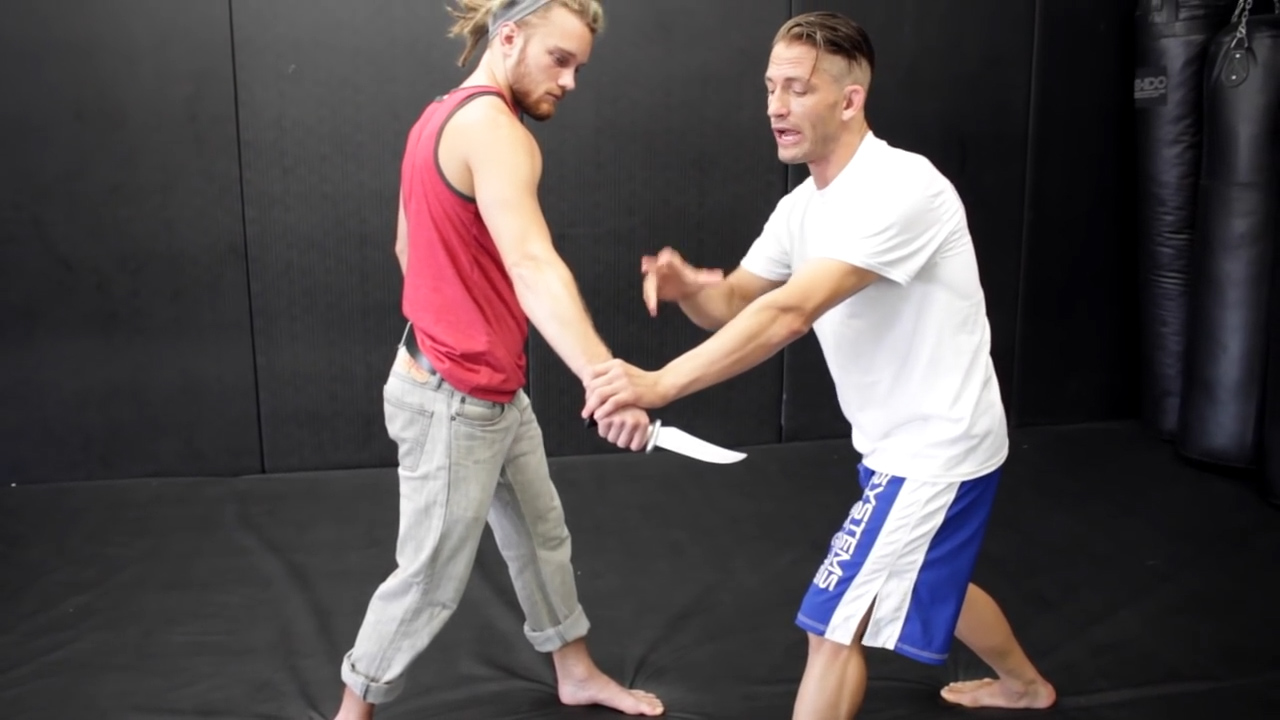knife: (579, 410, 753, 477)
